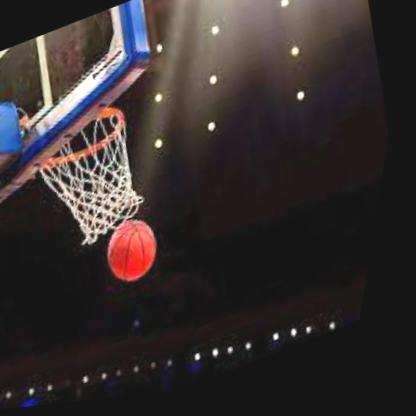basketball: (103, 211, 178, 295)
rim: (27, 101, 142, 179)
